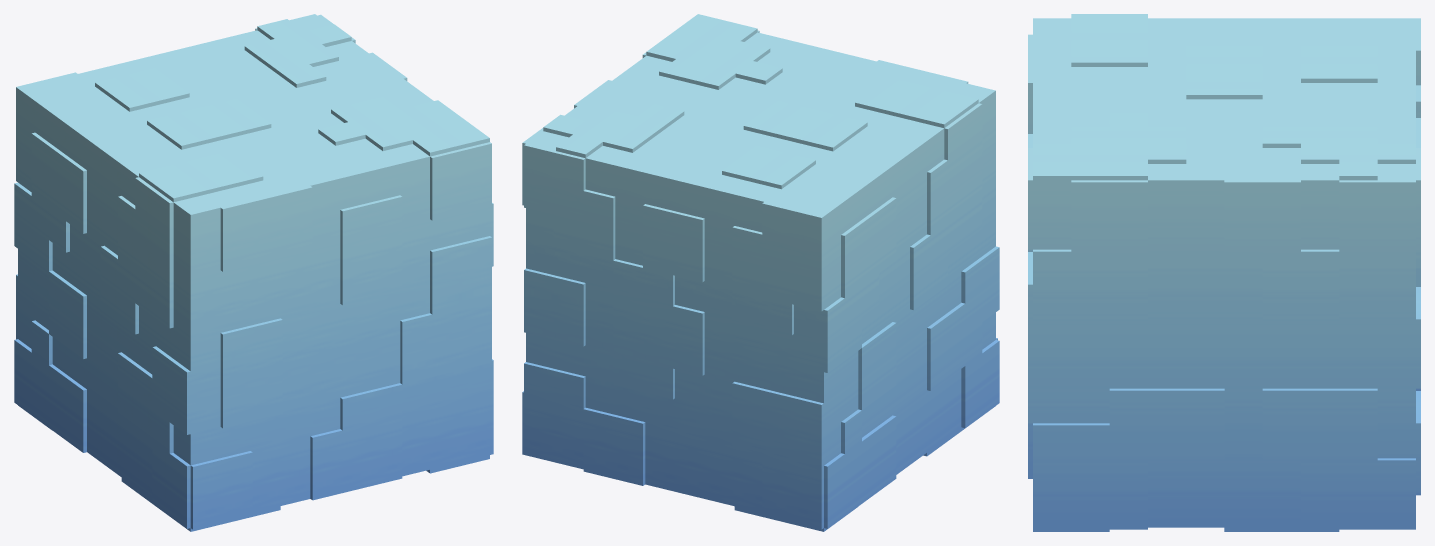
The model's file is wall_block.glb.
The picture shows the model from 3 angles, left to right: view 1: azimuth 30°, elevation 25°; view 2: azimuth 150°, elevation 25°; view 3: azimuth 270°, elevation 25°; orthographic projection. The views are drawn at different scales.
Visible parts, largest first — view 1: wall; view 2: wall; view 3: wall.
Boxes of the visible parts, x1,y1,x2,y2 form: wall: [14, 14, 493, 531]; wall: [522, 14, 999, 531]; wall: [1028, 14, 1420, 531].
Size of the model in its own units: 100 by 100 by 100.
1 material, 1 textured.
